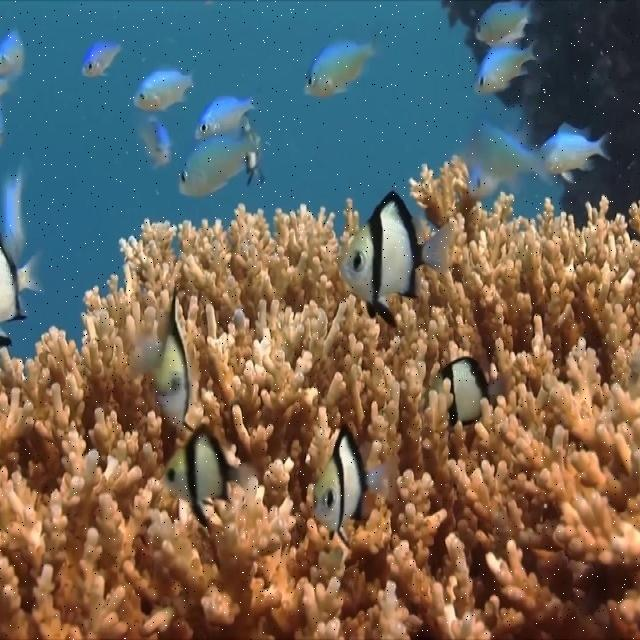fish: (339, 189, 455, 329), (126, 284, 193, 431), (164, 423, 252, 532), (313, 421, 394, 539), (0, 165, 43, 347), (178, 128, 271, 198), (425, 357, 507, 426), (304, 35, 381, 100), (539, 123, 609, 184), (475, 38, 542, 93), (0, 25, 25, 151), (133, 63, 198, 111), (477, 1, 538, 44), (194, 96, 257, 137), (138, 112, 173, 168), (81, 39, 124, 77)
reefs: (0, 152, 639, 639)
